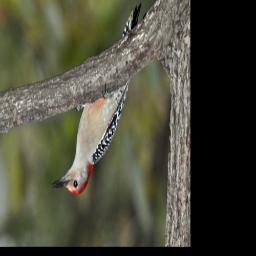Woodpecker: (51, 2, 142, 196)
